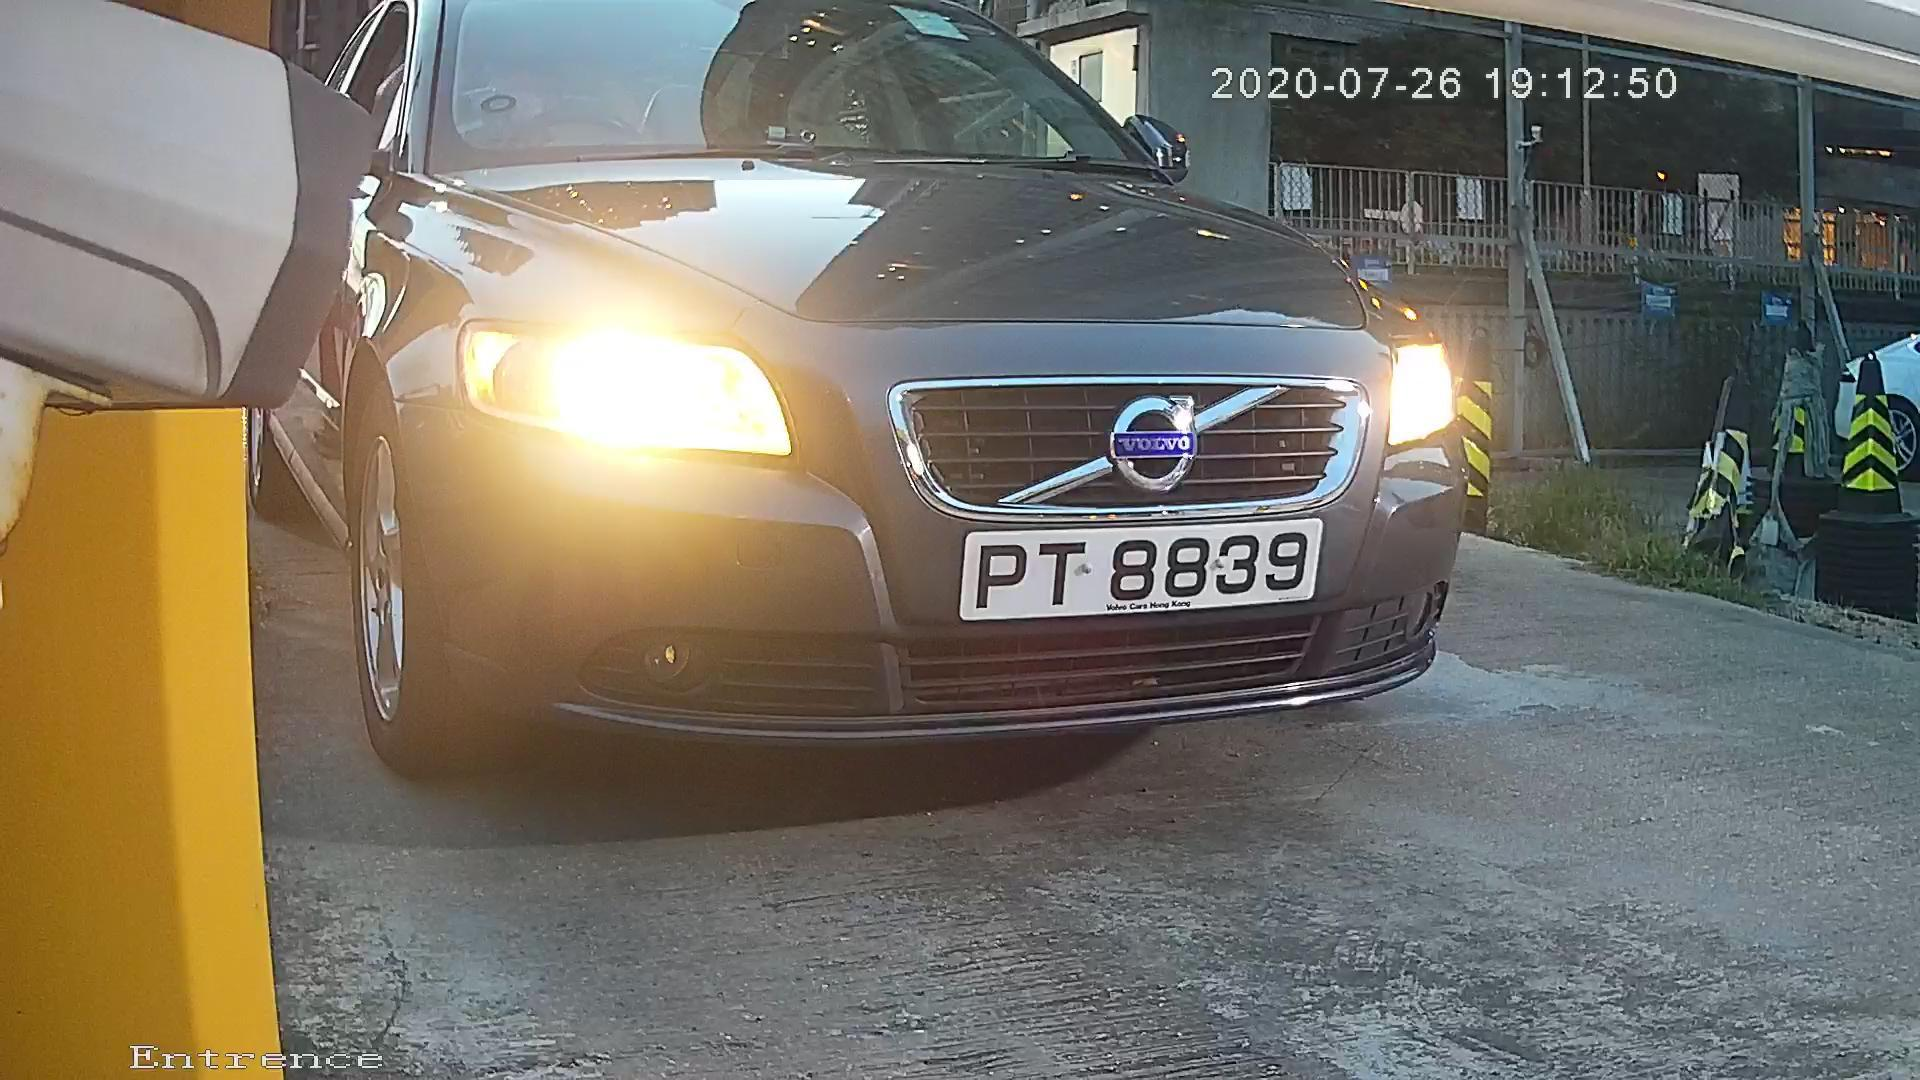License Plate: (935, 507, 1329, 627)
